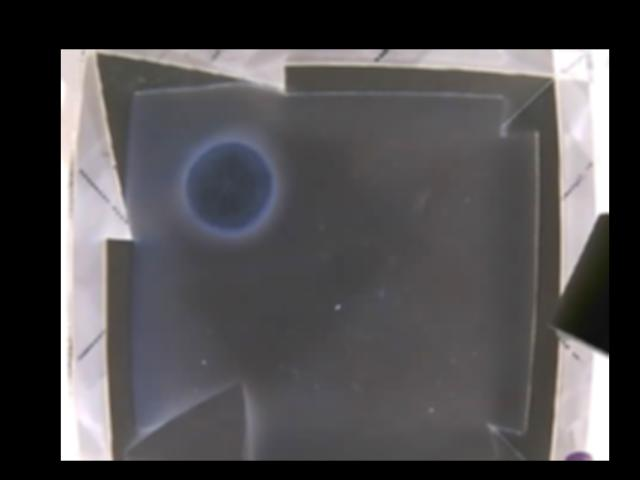China: (119, 380, 250, 460)
Mooli: (180, 138, 275, 235)
